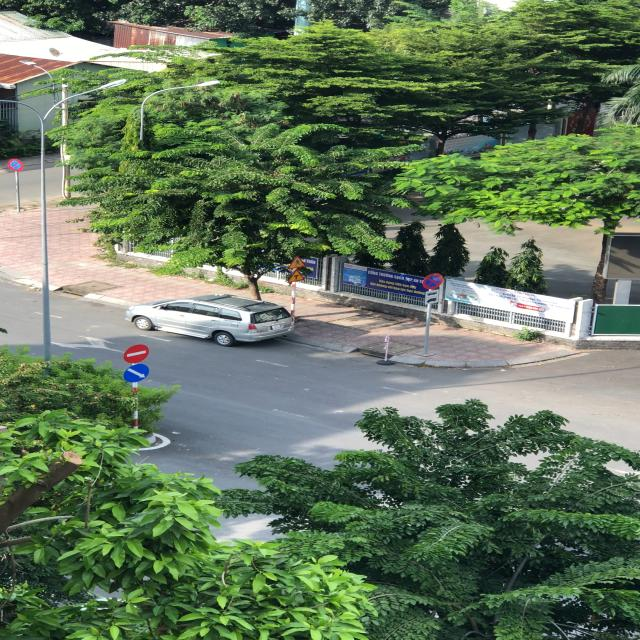Bien bao cam di nguoc chieu: (123, 342, 152, 363)
Bien bao cam dung xe va do xe: (422, 271, 446, 291)
Bien bao duong giao nhau: (285, 268, 309, 284)
Bien bao duong nguoi di bo cat ngang: (285, 255, 308, 270)
Bien bao huong phai di vong chuong ngai vat: (124, 364, 152, 384)
